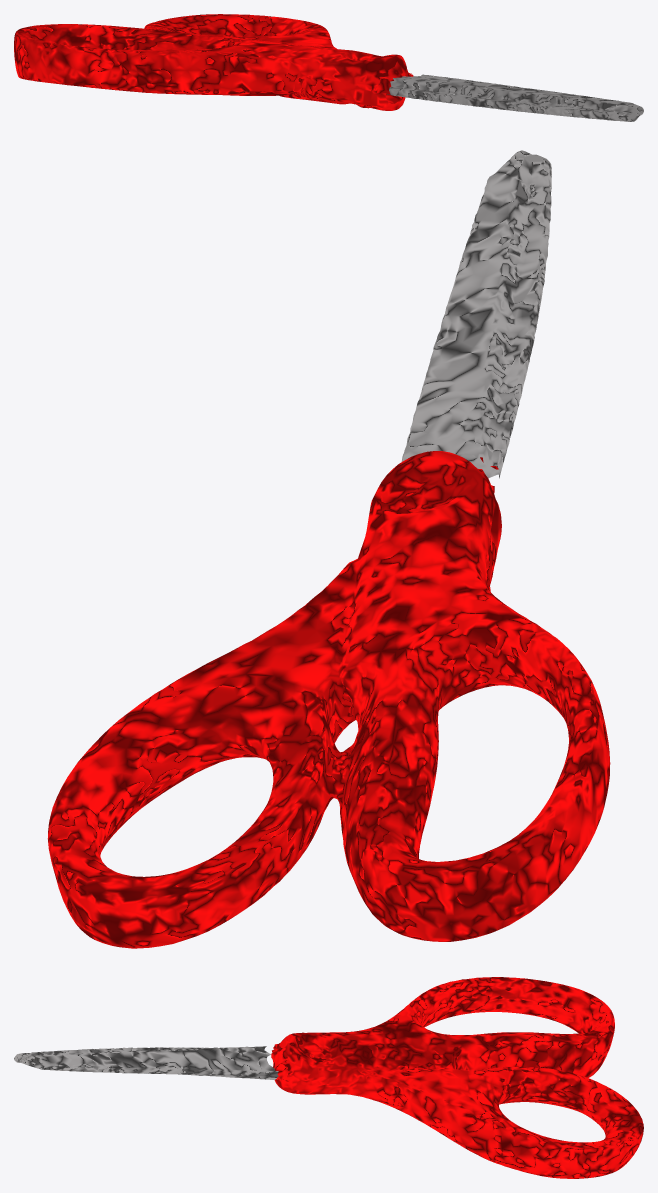
Rendered from scissor_vrep.dae.
3 renders of one model, top to bottom at view 1: azimuth 30°, elevation 25°; view 2: azimuth 150°, elevation 25°; view 3: azimuth 270°, elevation 25°, orthographic. The views are drawn at different scales.
Visible parts, largest first — view 1: Node_0x7f0229c3eed0 (×2); view 2: Node_0x7f0229c3eed0 (×2); view 3: Node_0x7f0229c3eed0 (×2).
Part boxes in pixels (bbox=[...]): Node_0x7f0229c3eed0 (×2): bbox=[14, 14, 643, 121]; Node_0x7f0229c3eed0 (×2): bbox=[47, 150, 610, 948]; Node_0x7f0229c3eed0 (×2): bbox=[14, 977, 643, 1178].
Size of the model in its own units: 0.1029 by 0.0512 by 0.1908.
